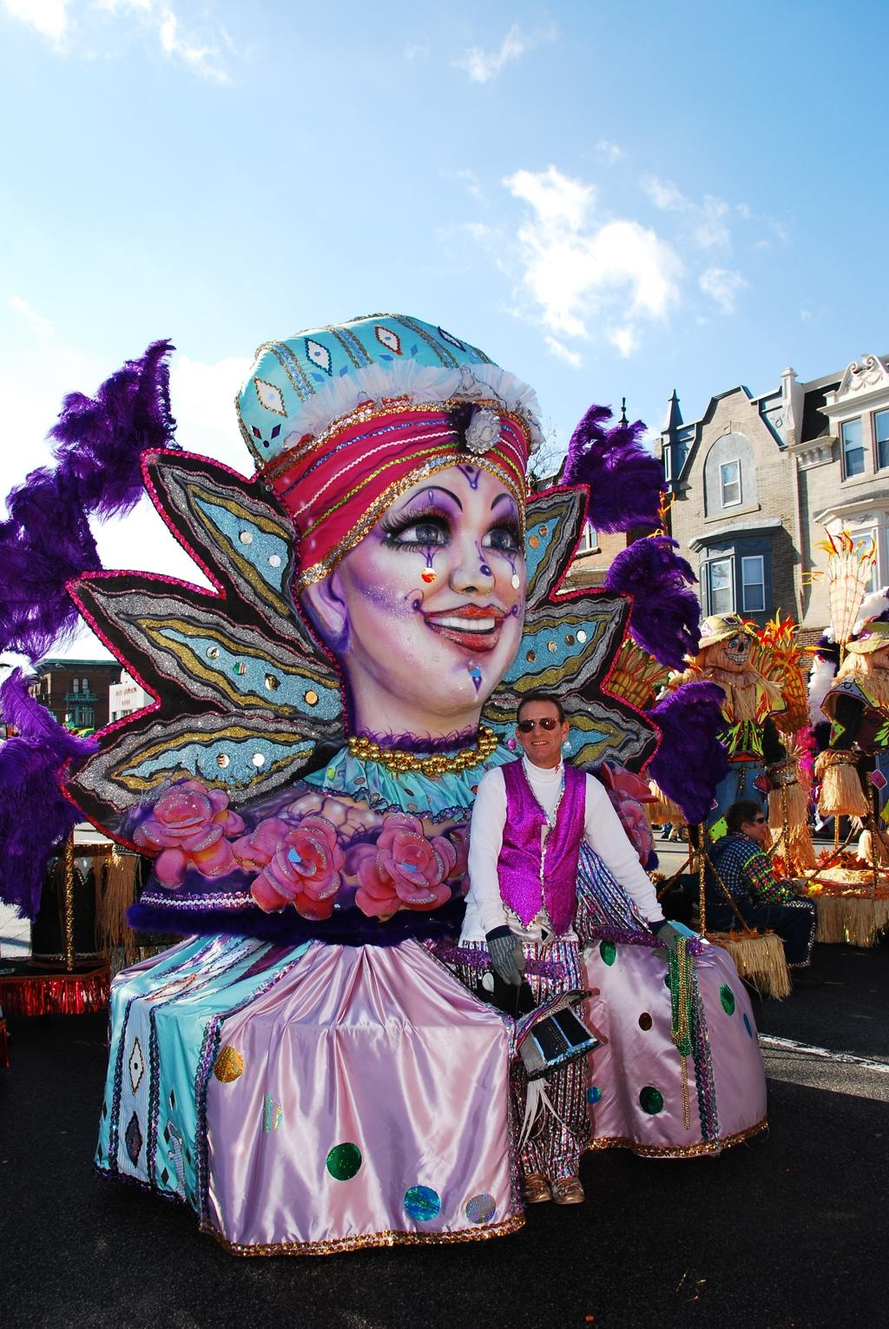human_face: (346, 469, 528, 714), (520, 704, 560, 759), (749, 810, 769, 841)
